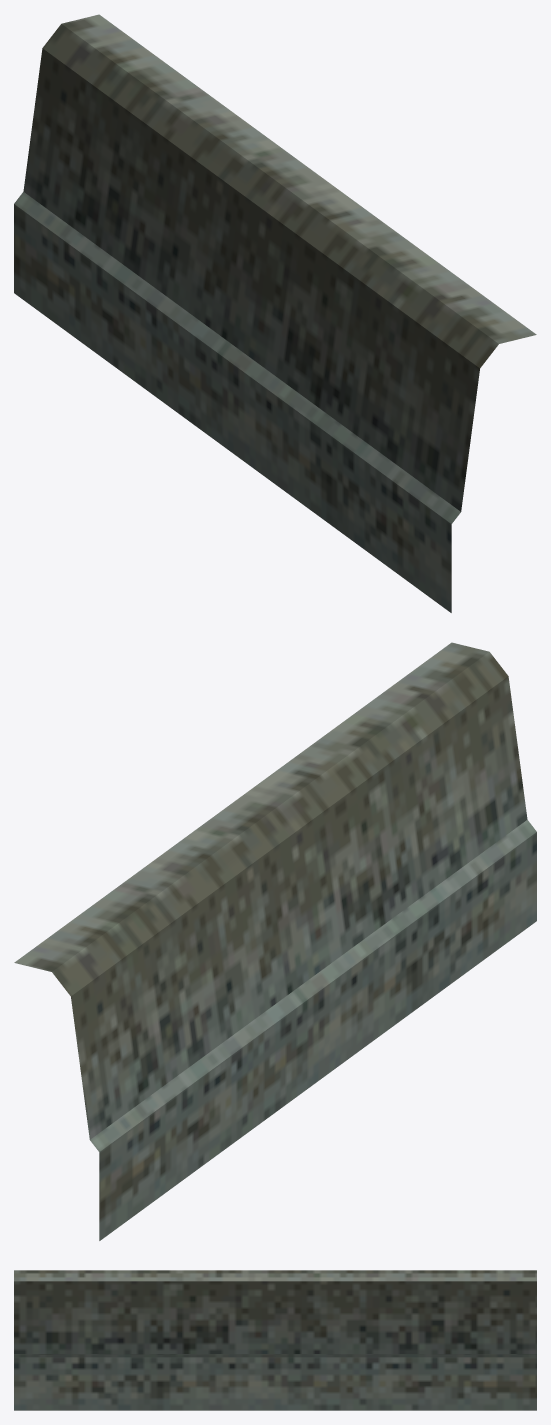
File: EnvBdgMD_Castle_Raimei_A_Wallbase_4W1H.FBX
3 views of the same model, one above another, from view 1: azimuth 30°, elevation 25°; view 2: azimuth 150°, elevation 25°; view 3: azimuth 270°, elevation 25° (orthographic). The views are drawn at different scales.
Visible parts, largest first — view 1: EnvBdgMD_Castle_Raimei_A_Wallbase_4W1H; view 2: EnvBdgMD_Castle_Raimei_A_Wallbase_4W1H; view 3: EnvBdgMD_Castle_Raimei_A_Wallbase_4W1H.
Boxes of the visible parts, left/top/right/bottom form: EnvBdgMD_Castle_Raimei_A_Wallbase_4W1H: left=14, top=14, right=536, bottom=612; EnvBdgMD_Castle_Raimei_A_Wallbase_4W1H: left=14, top=642, right=536, bottom=1240; EnvBdgMD_Castle_Raimei_A_Wallbase_4W1H: left=14, top=1270, right=536, bottom=1410.
Bounding box in the file's own units: 45 × 130 × 400.
